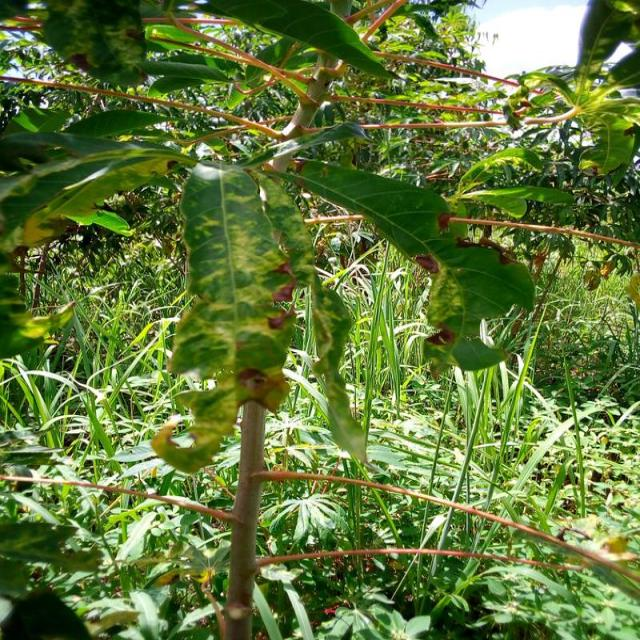cassava leaf: (296, 156, 535, 373), (168, 159, 306, 386)
